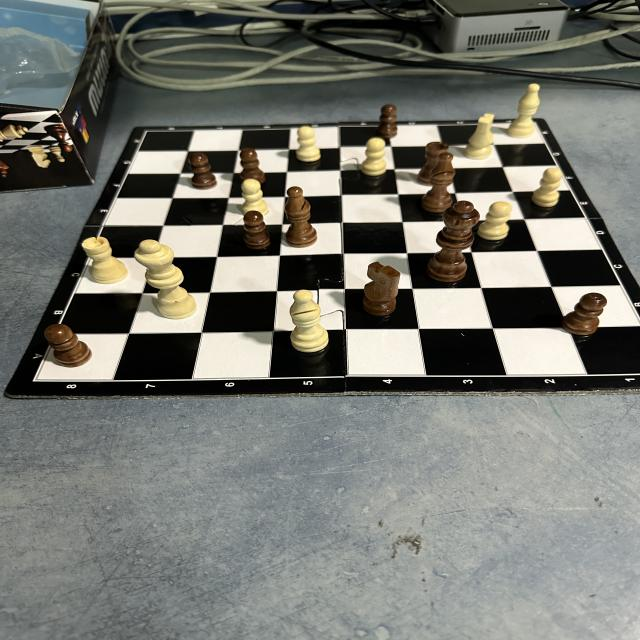Black-Bishop: (285, 186, 317, 246), (422, 153, 454, 213)
Black-Knight: (363, 262, 400, 315)
Black-Pawn: (44, 323, 92, 368), (563, 292, 606, 334), (241, 210, 272, 250), (190, 151, 218, 189), (239, 149, 265, 186), (376, 104, 397, 138)
Black-Queen: (429, 200, 479, 281)
Black-Rook: (419, 141, 449, 185)
White-Bishop: (290, 288, 328, 353), (509, 82, 541, 136)
White-Knight: (465, 112, 494, 160)
White-Pawn: (480, 201, 512, 241), (241, 179, 269, 217), (534, 168, 561, 206), (362, 138, 386, 176), (295, 127, 320, 162)
White-Queen: (134, 239, 194, 319)
White-Rook: (81, 236, 127, 284)
